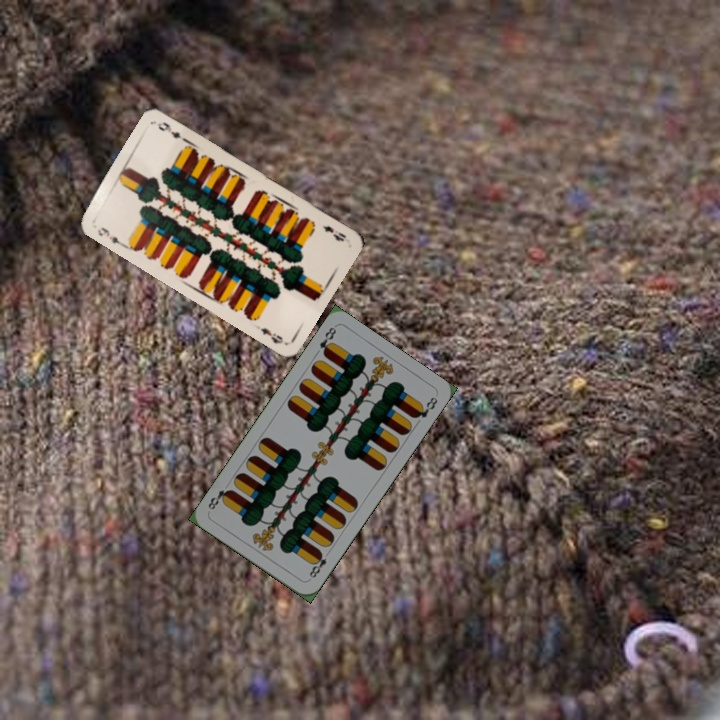E8: (305, 548, 333, 583), (315, 323, 339, 358)
E9: (93, 223, 126, 248), (319, 221, 349, 244)
